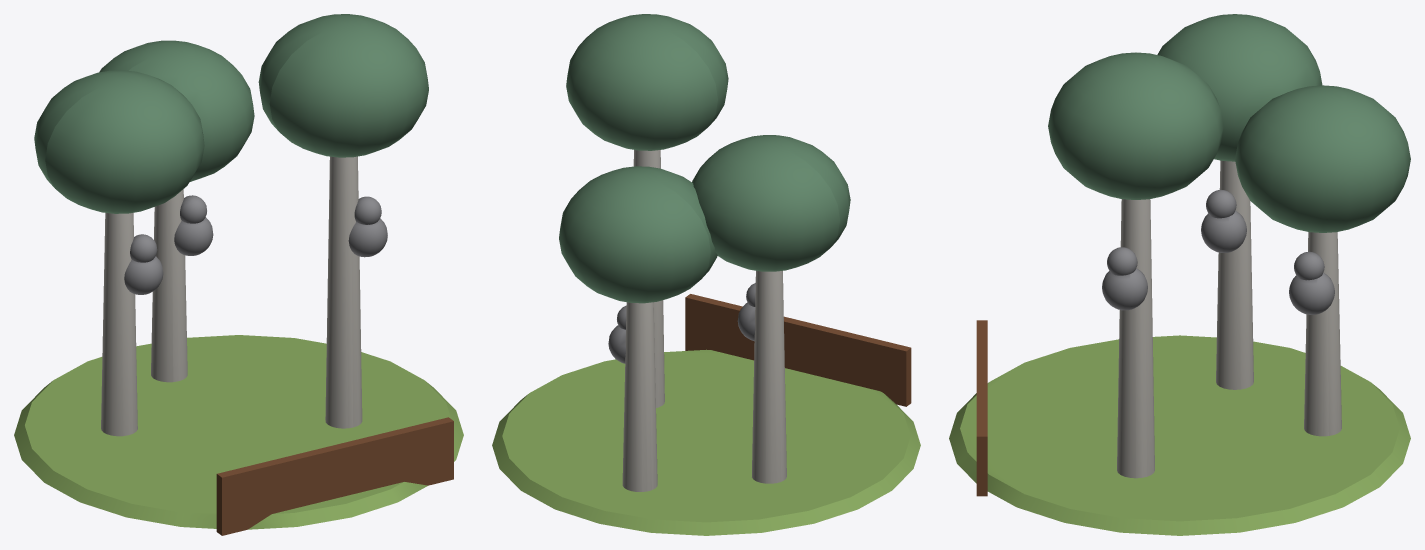
Rendered from lm-lonepine.glb.
3 views of the same model, side by side, from view 1: azimuth 30°, elevation 25°; view 2: azimuth 150°, elevation 25°; view 3: azimuth 270°, elevation 25° (orthographic). The views are drawn at different scales.
Bounding box in the file's own units: 8.4 × 8.38 × 8.4.
